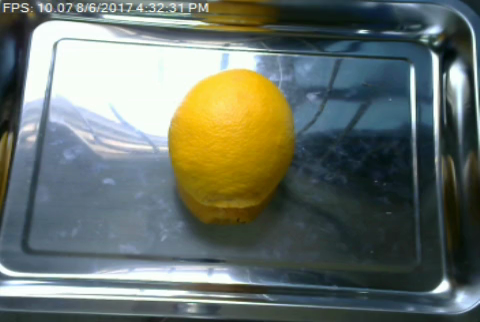Orange: (168, 67, 295, 207)
